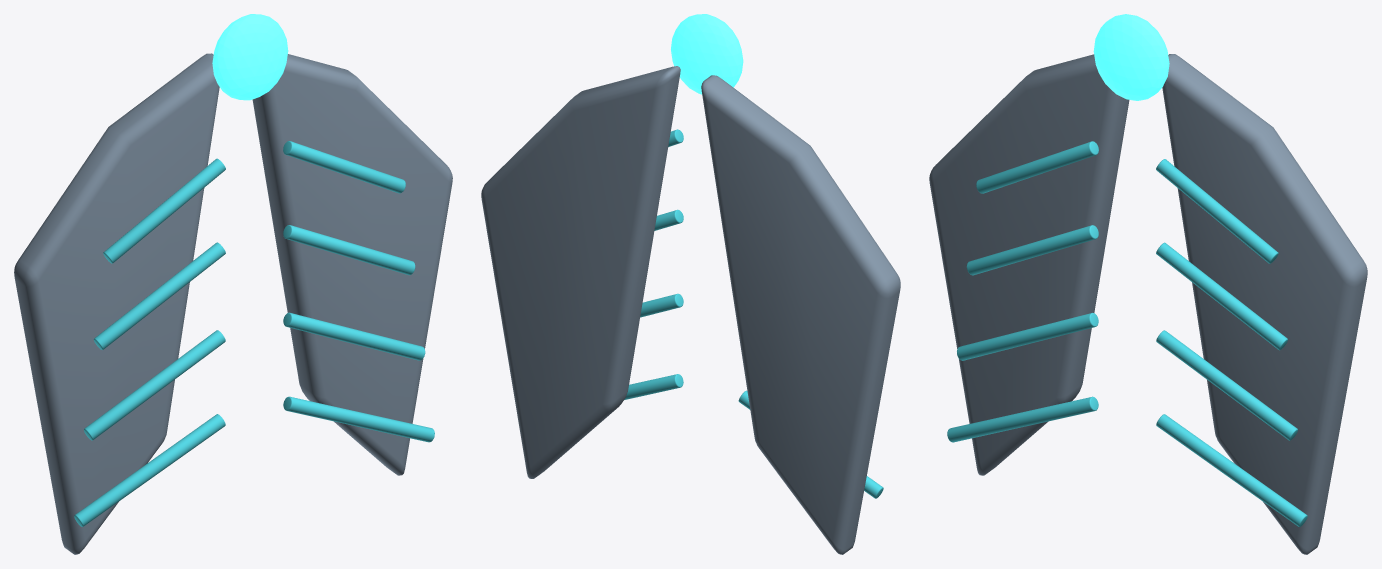
File: cloak_v6.glb
3 renders of one model, left to right at view 1: azimuth 30°, elevation 25°; view 2: azimuth 150°, elevation 25°; view 3: azimuth 330°, elevation 25°, orthographic. The views are drawn at different scales.
Visible parts, largest first — view 1: WING_CAPE_PRIMARY, WING_CAPE_PRIMARY.001, WING_CLASP_EMISSIVE, WING_RIB_ACCENT.003, WING_RIB_ACCENT.002, WING_RIB_ACCENT.001, WING_RIB_ACCENT.007, WING_RIB_ACCENT, WING_RIB_ACCENT.006, WING_RIB_ACCENT.005, WING_RIB_ACCENT.004; view 2: WING_CAPE_PRIMARY, WING_CAPE_PRIMARY.001, WING_CLASP_EMISSIVE, WING_RIB_ACCENT.007, WING_RIB_ACCENT.006; view 3: WING_CAPE_PRIMARY.001, WING_CAPE_PRIMARY, WING_CLASP_EMISSIVE, WING_RIB_ACCENT.007, WING_RIB_ACCENT.006, WING_RIB_ACCENT.005, WING_RIB_ACCENT.003, WING_RIB_ACCENT.004, WING_RIB_ACCENT.002, WING_RIB_ACCENT.001, WING_RIB_ACCENT.
Part boxes in pixels (x1,y1,x2,y2): WING_CAPE_PRIMARY: (14,53,219,554); WING_CAPE_PRIMARY.001: (252,54,452,475); WING_CLASP_EMISSIVE: (212,14,288,100); WING_RIB_ACCENT.003: (74,414,225,526); WING_RIB_ACCENT.002: (84,330,225,440); WING_RIB_ACCENT.001: (93,242,225,349); WING_RIB_ACCENT.007: (283,396,434,442); WING_RIB_ACCENT: (103,158,225,263); WING_RIB_ACCENT.006: (283,312,425,360); WING_RIB_ACCENT.005: (283,225,415,275); WING_RIB_ACCENT.004: (283,141,405,193); WING_CAPE_PRIMARY: (701,75,900,554); WING_CAPE_PRIMARY.001: (481,66,680,478); WING_CLASP_EMISSIVE: (671,14,743,94); WING_RIB_ACCENT.007: (624,374,683,399); WING_RIB_ACCENT.006: (640,293,683,317); WING_CAPE_PRIMARY.001: (1162,54,1367,554); WING_CAPE_PRIMARY: (929,54,1129,475); WING_CLASP_EMISSIVE: (1093,14,1169,100); WING_RIB_ACCENT.007: (1156,414,1307,526); WING_RIB_ACCENT.006: (1156,330,1297,440); WING_RIB_ACCENT.005: (1156,242,1287,350); WING_RIB_ACCENT.003: (947,396,1098,442); WING_RIB_ACCENT.004: (1156,159,1278,263); WING_RIB_ACCENT.002: (957,312,1098,360); WING_RIB_ACCENT.001: (966,225,1098,275); WING_RIB_ACCENT: (976,141,1098,193).
Size of the model in its own units: 2.35 by 2.67 by 0.355.
